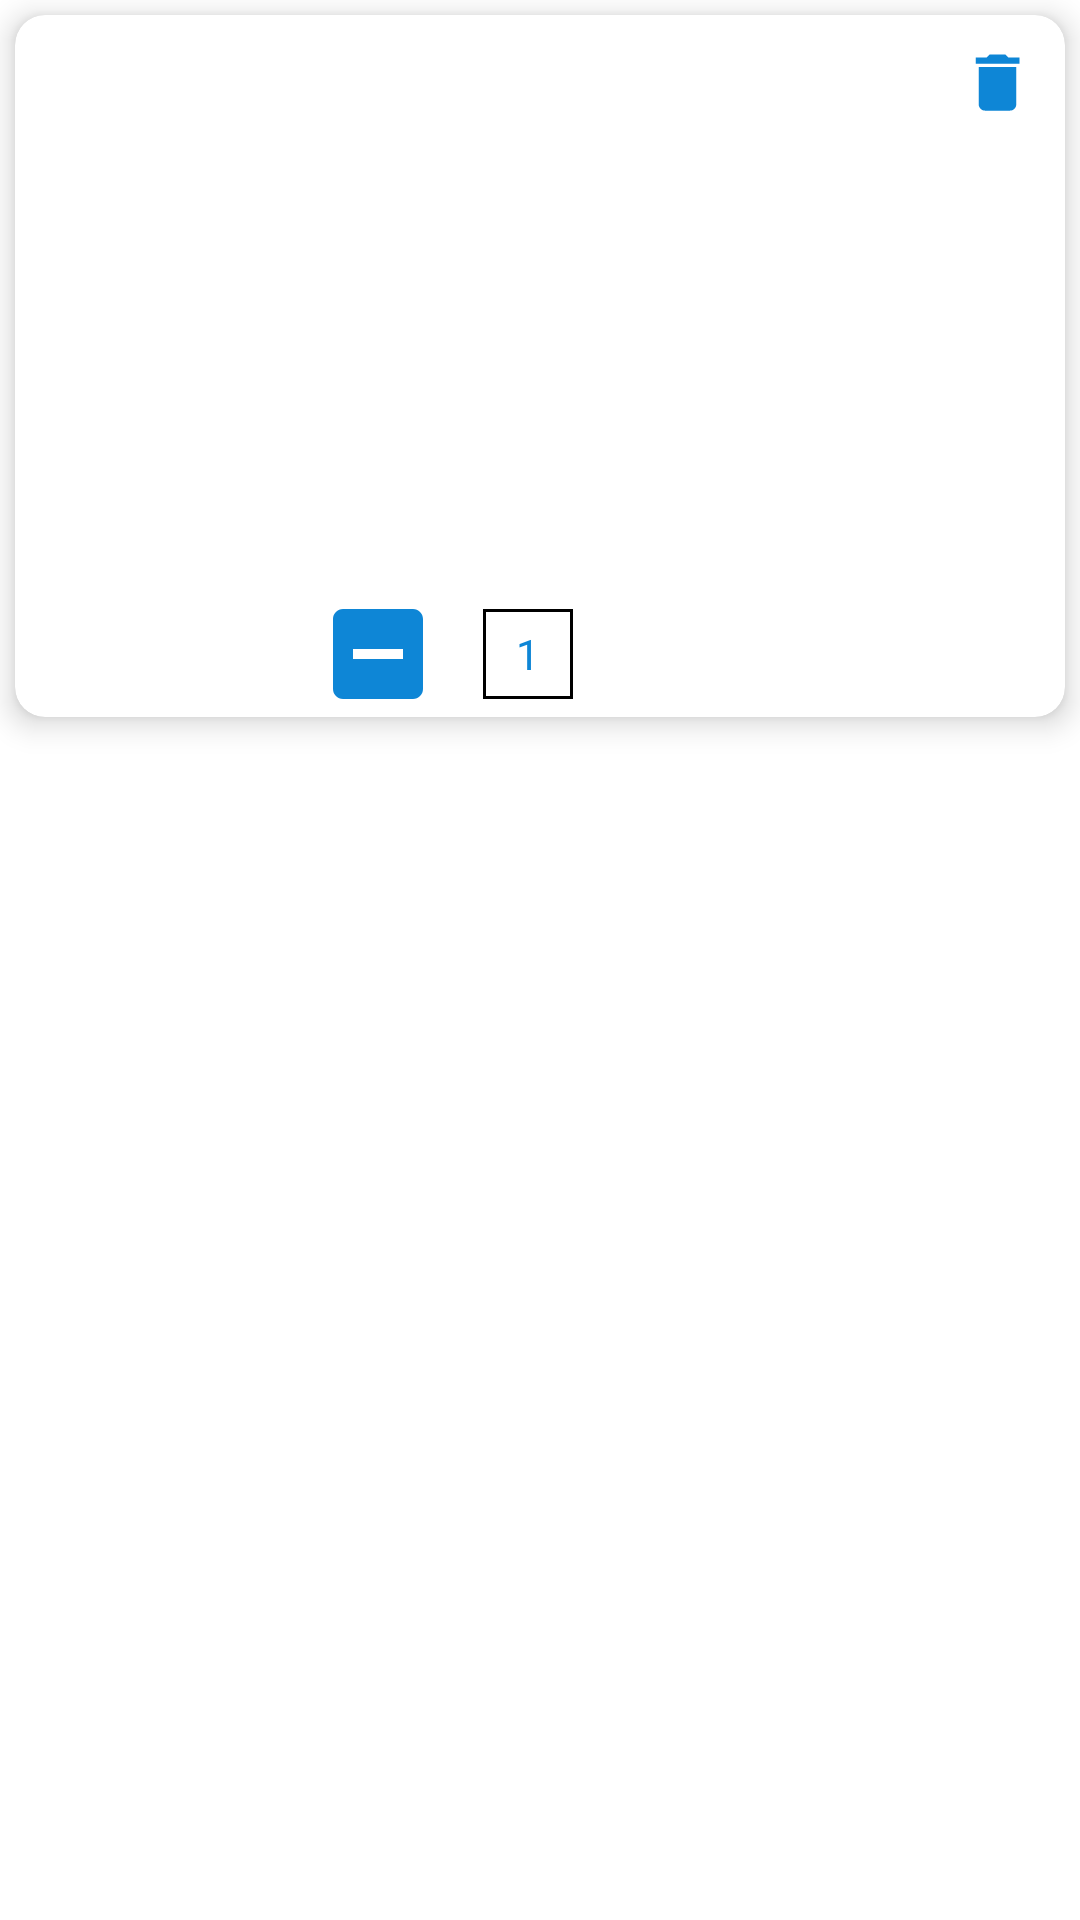

Icon bounding boxes for this 1080×1920 phone screenshot, format box=[x1, y1, x2, y2]:
delete: box=[975, 54, 1020, 111]
minus sign: box=[333, 609, 423, 699]
